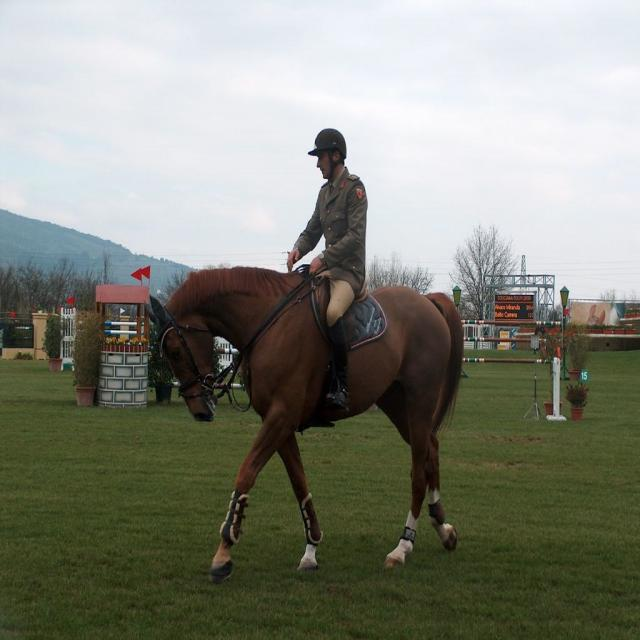Horse: (144, 265, 464, 584)
